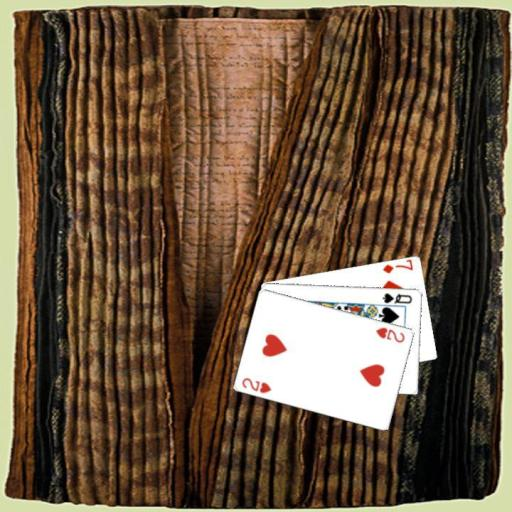2H: (239, 374, 273, 395), (373, 324, 407, 344)
7D: (380, 258, 415, 275)
QS: (380, 289, 414, 305)
